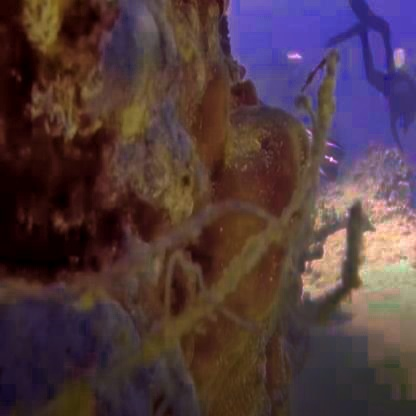net: (212, 112, 390, 376)
